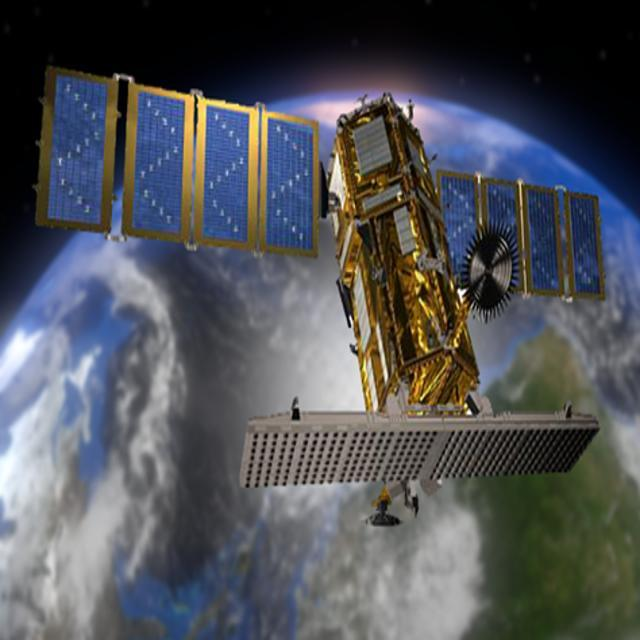sat: (26, 48, 614, 544)
